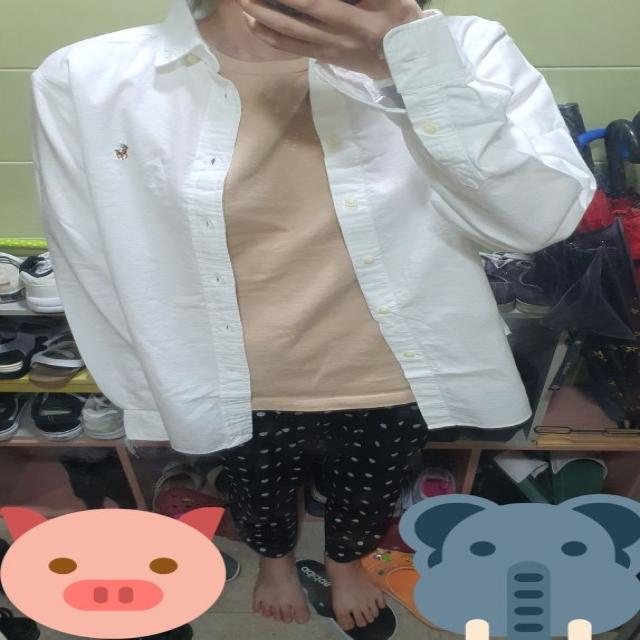shirt: (18, 1, 610, 440)
